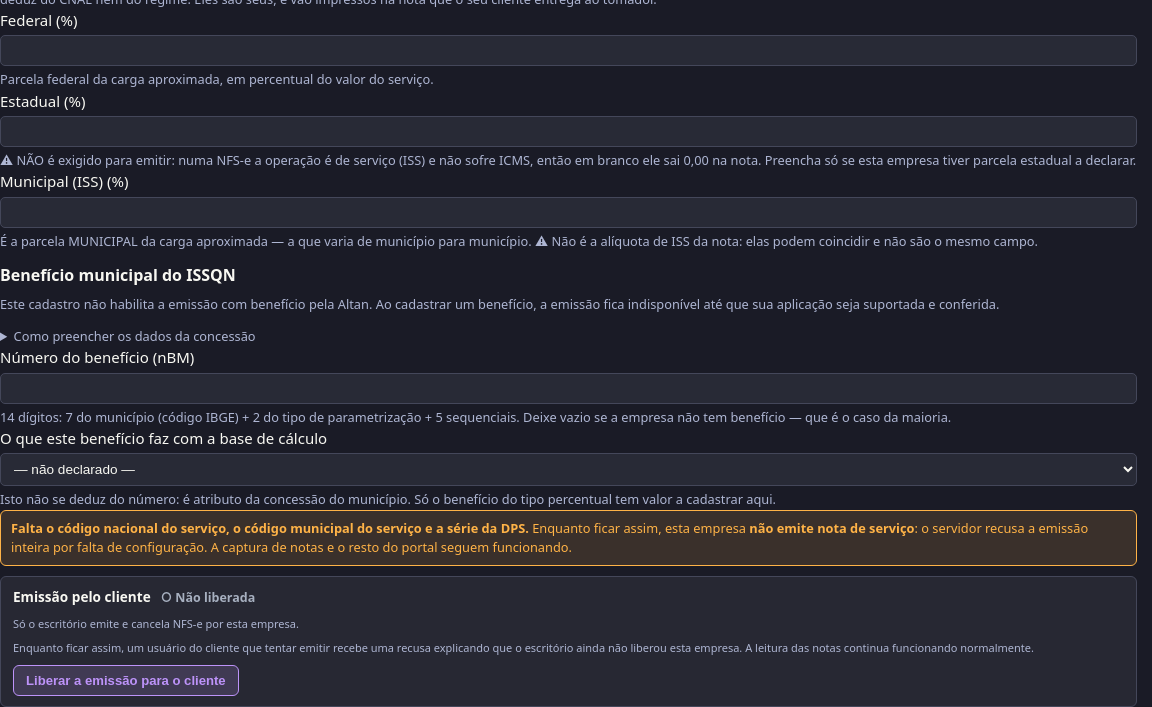
Scenario: ⚠ ligar é ato de consequência — confirma repetindo o que vai acontecer › o primeiro clique NÃO envia nada; abre a confirmação com a frase inteira
The width and height of the screenshot is (1152, 707).
(page scrolled)
What coordinates should you click on to do the following:
click the button "Liberar a emissão para o cliente"
I would click on:
 (126, 680)
Its box is [13,665,239,696].
(page scrolled)
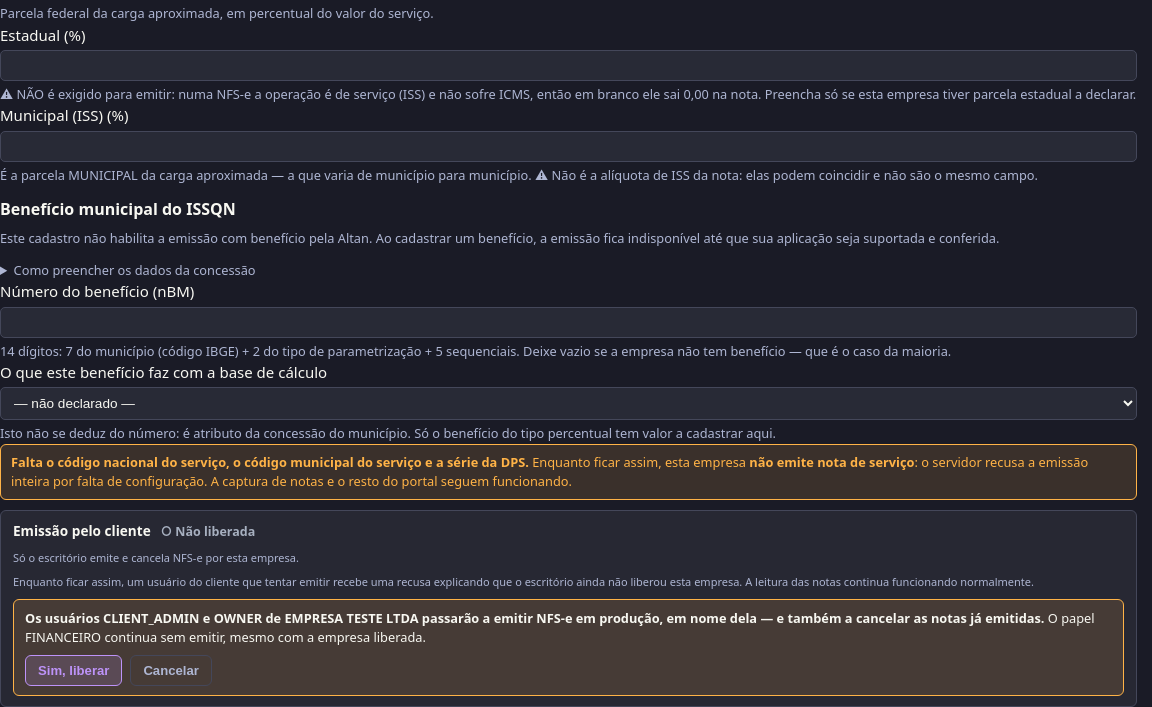
Now the dialog shows "CLIENT_ADMIN", box [25,609,1044,627]
Now the dialog shows "OWNER", box [25,609,1044,627]
Now the dialog shows "produção", box [25,609,1044,627]
